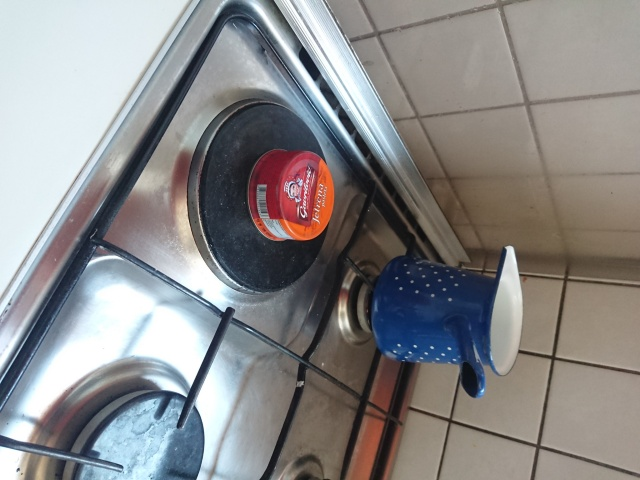Gavrilovic Pork Liver Pate 100g: (245, 146, 337, 243)
